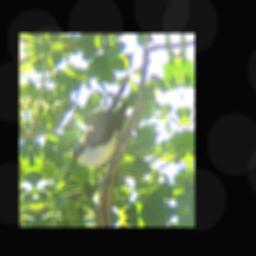Cuckoo: (63, 67, 141, 170)
